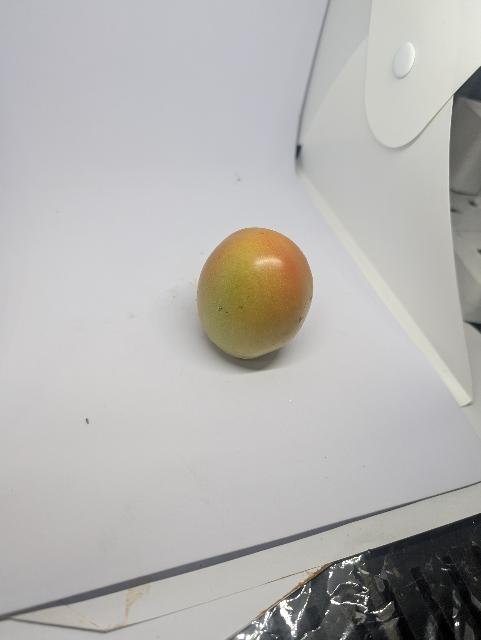breaker: (193, 226, 318, 363)
